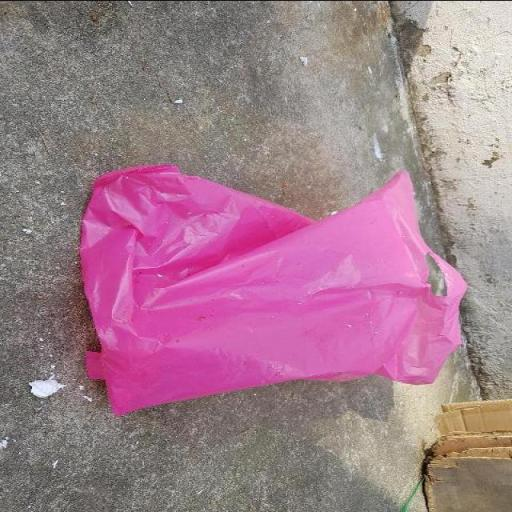plastic-bag: (77, 162, 470, 417)
